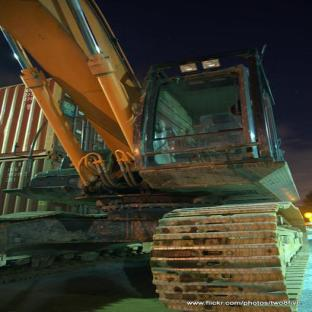ExcavationMachinery: (0, 0, 300, 299)
